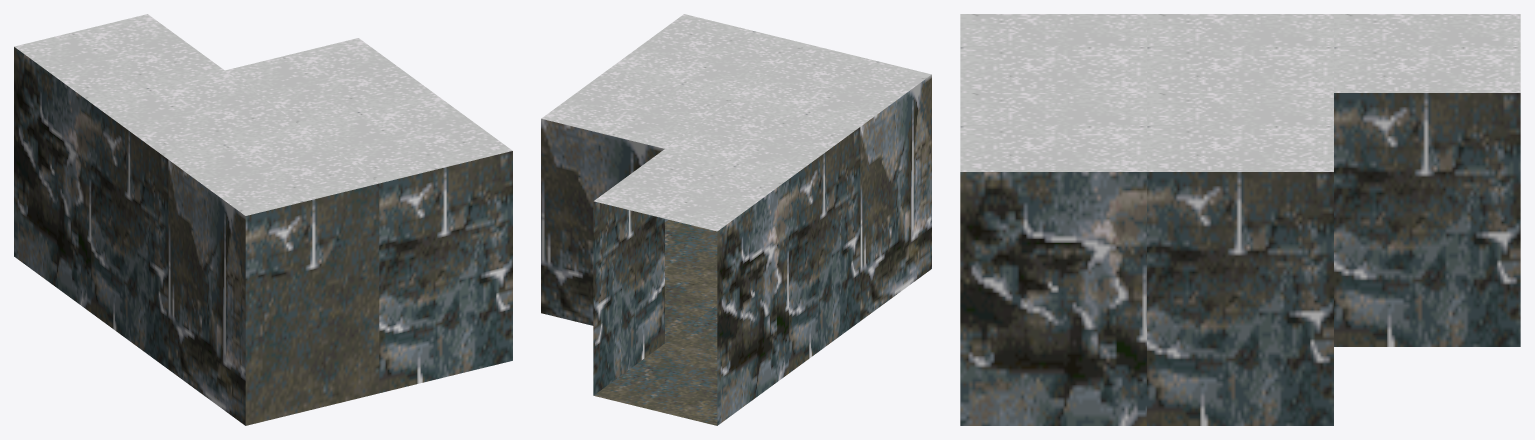
The model's file is room39.obj.
The picture shows the model from 3 angles, left to right: view 1: azimuth 30°, elevation 25°; view 2: azimuth 150°, elevation 25°; view 3: azimuth 270°, elevation 25°; orthographic projection. The views are drawn at different scales.
Visible parts, largest first — view 1: 01-Caves.039; view 2: 01-Caves.039; view 3: 01-Caves.039.
Part boxes in pixels (x1,y1,x2,y2): 01-Caves.039: [14, 14, 512, 425]; 01-Caves.039: [541, 14, 931, 425]; 01-Caves.039: [960, 14, 1520, 425].
Size of the model in its own units: 20 by 15 by 30.
1 material, 1 textured.
